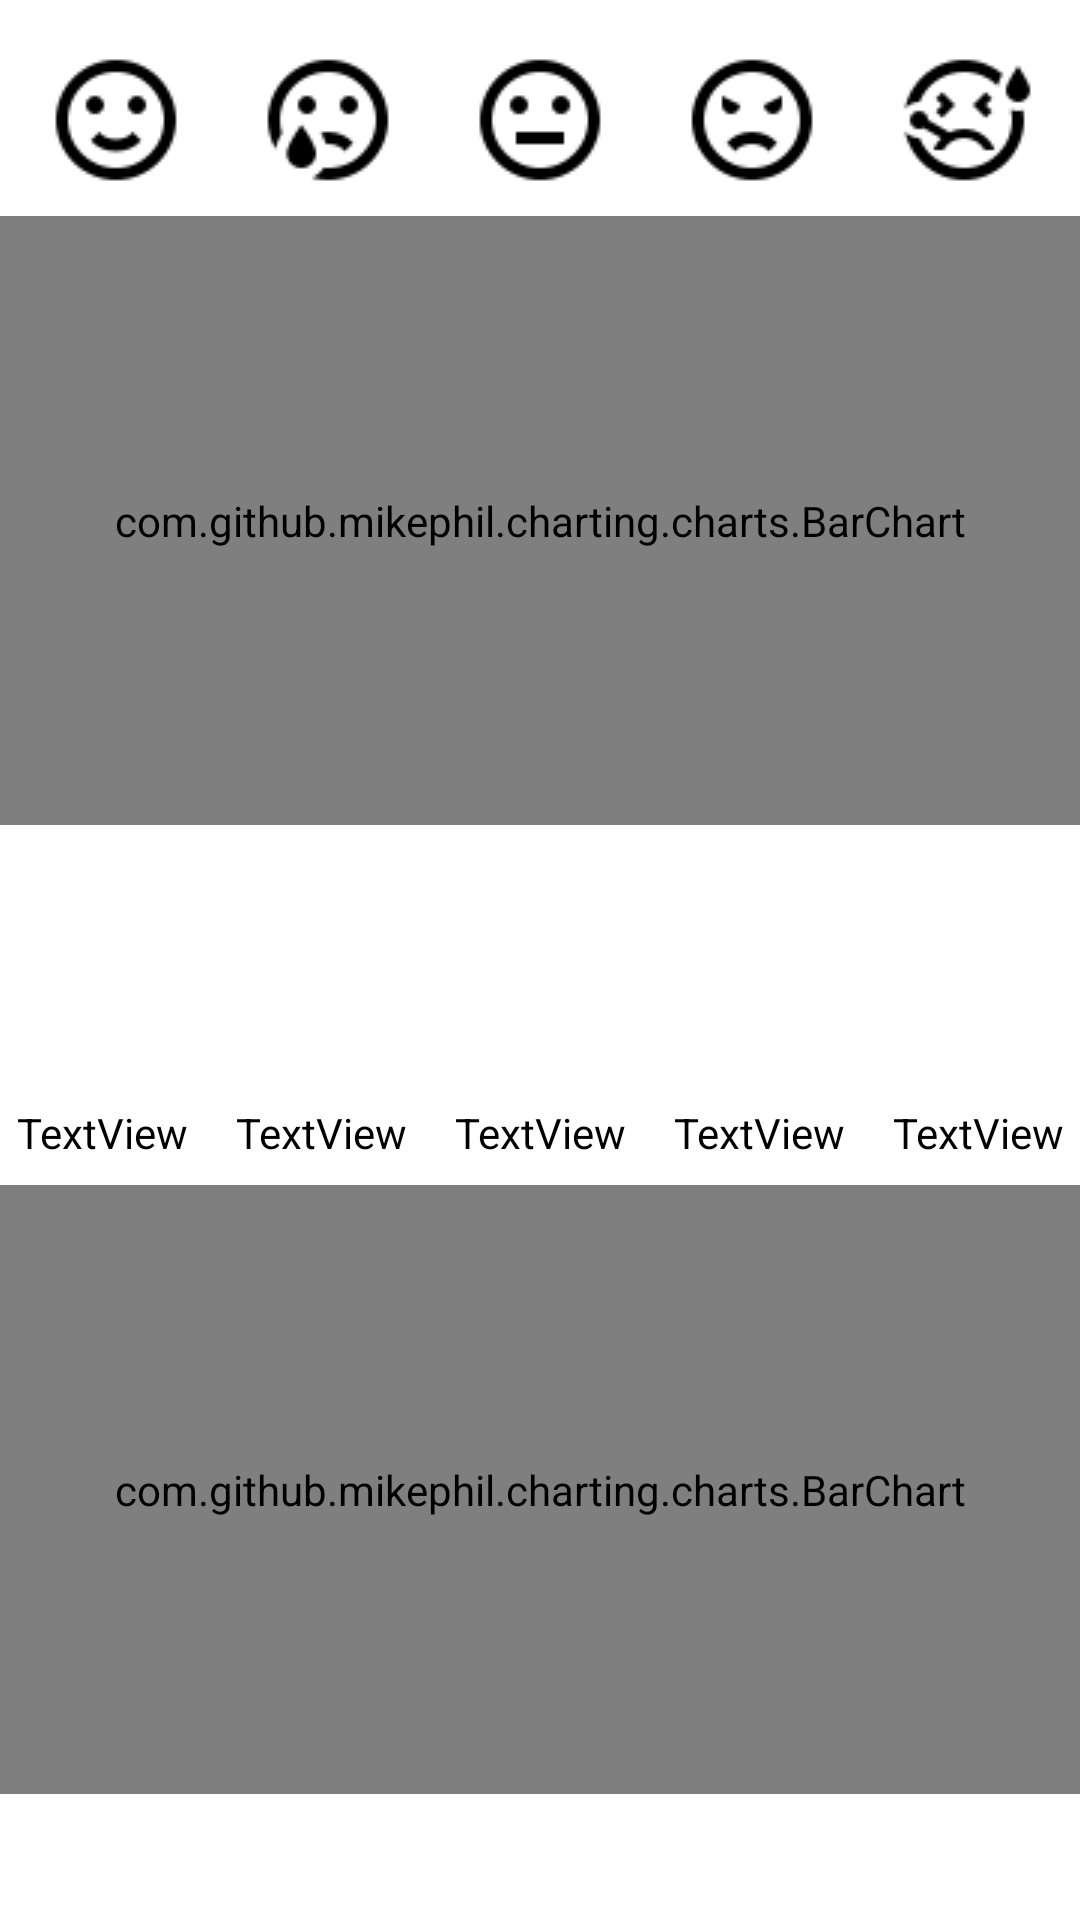

Icon bounding boxes for this 1080×1920 phone screenshot, format bbox(x1, y1, x2, y2):
angry: bbox(691, 59, 813, 181)
happy: bbox(55, 59, 177, 181)
neutral: bbox(479, 59, 601, 181)
sad: bbox(267, 59, 389, 181)
sick: bbox(903, 59, 1031, 181)
